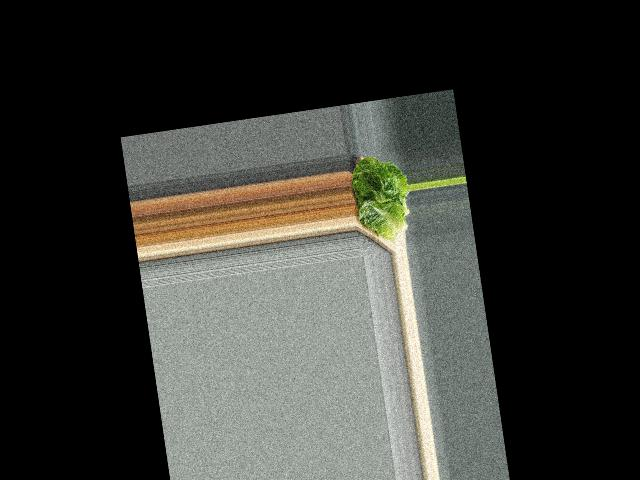lettuce: (345, 149, 415, 244)
